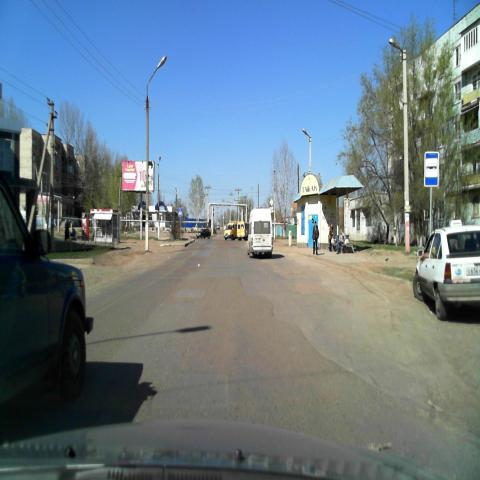5_16: (424, 150, 439, 186)
